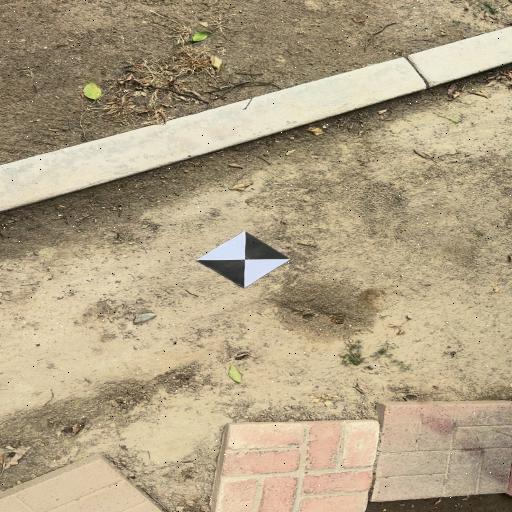target: (198, 232, 289, 288)
